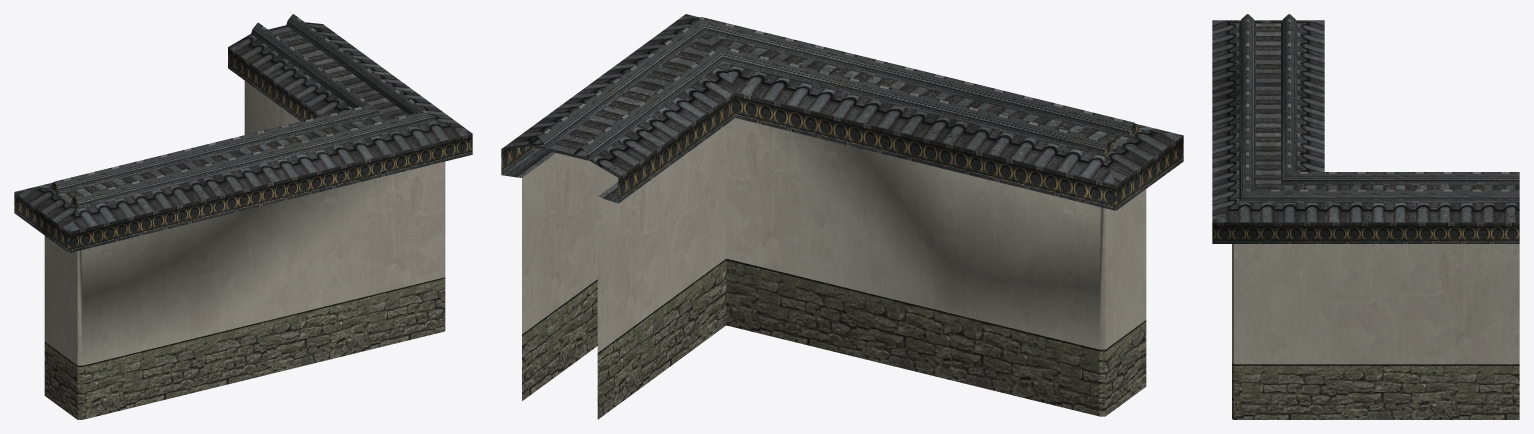
File: japanese_wall_corner_right.FBX
The picture shows the model from 3 angles, left to right: view 1: azimuth 30°, elevation 25°; view 2: azimuth 150°, elevation 25°; view 3: azimuth 270°, elevation 25°; orthographic projection. The views are drawn at different scales.
Parts seen in each view (by area): view 1: japanese_wall_corner_high_007; view 2: japanese_wall_corner_high_007; view 3: japanese_wall_corner_high_007.
Boxes of the visible parts, x1,y1,x2,y2 form: japanese_wall_corner_high_007: (14, 14, 472, 419); japanese_wall_corner_high_007: (501, 14, 1183, 419); japanese_wall_corner_high_007: (1212, 14, 1519, 419).
Bounding box in the file's own units: 666 × 343 × 428.
